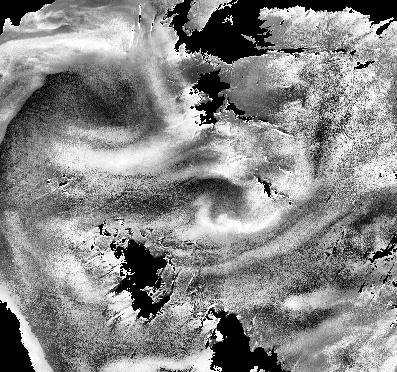AE: (18, 10, 185, 171)
